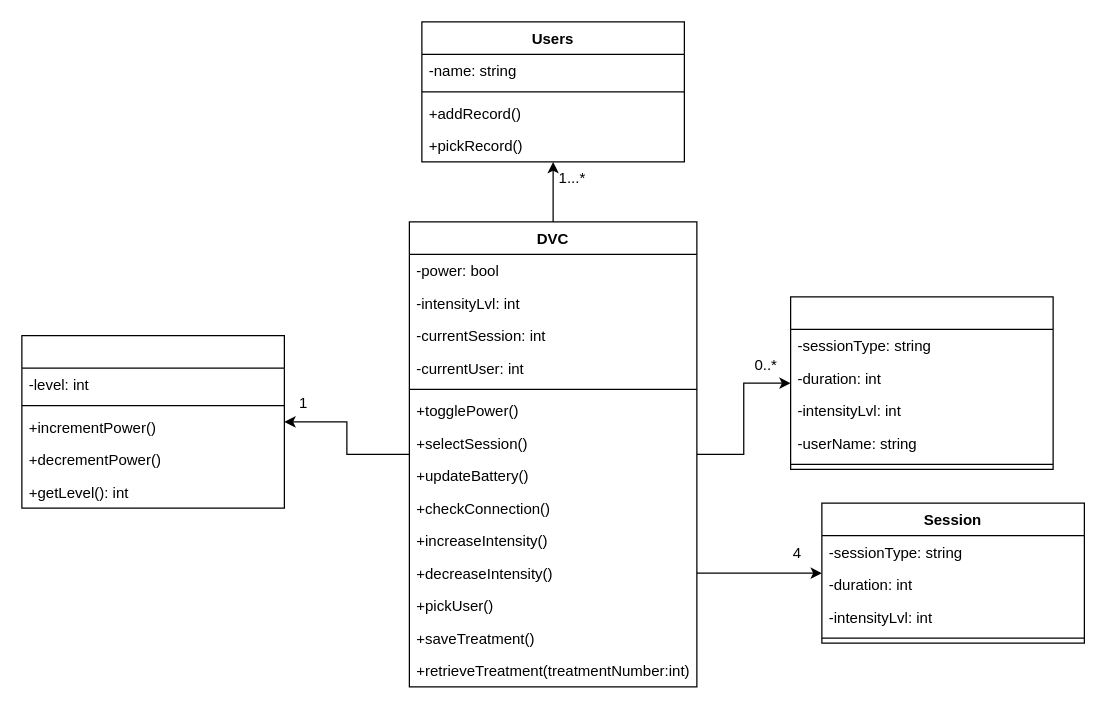
The diagram is 1106 pixels wide and 713 high, and some of its shapes have lost their labels. The shapes that lost their labels are listed below. From the top down, each one's box as (x1, y1, x2, y2) in pixels, then its label:
(789, 296, 1053, 469): Record
(21, 334, 284, 508): Battery
